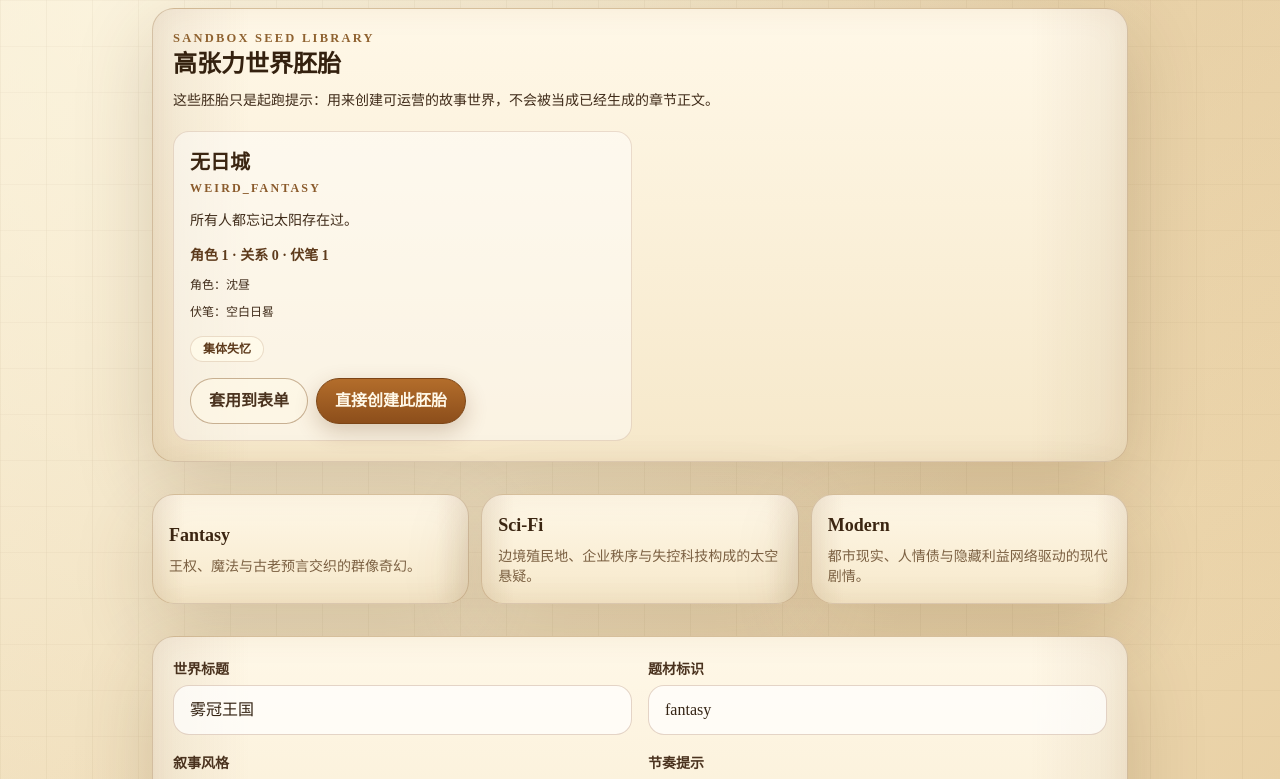
WorldPage world creation › creates a high-tension embryo without treating seed hook as generated chapter content
(page scrolled)
Expected: the text "所有人都忘记太阳存在过。" is shown, [190,213,358,228]
Step 1. Click the button "直接创建此胚胎" → (391, 401), box [316,378,466,424]
(page scrolled)
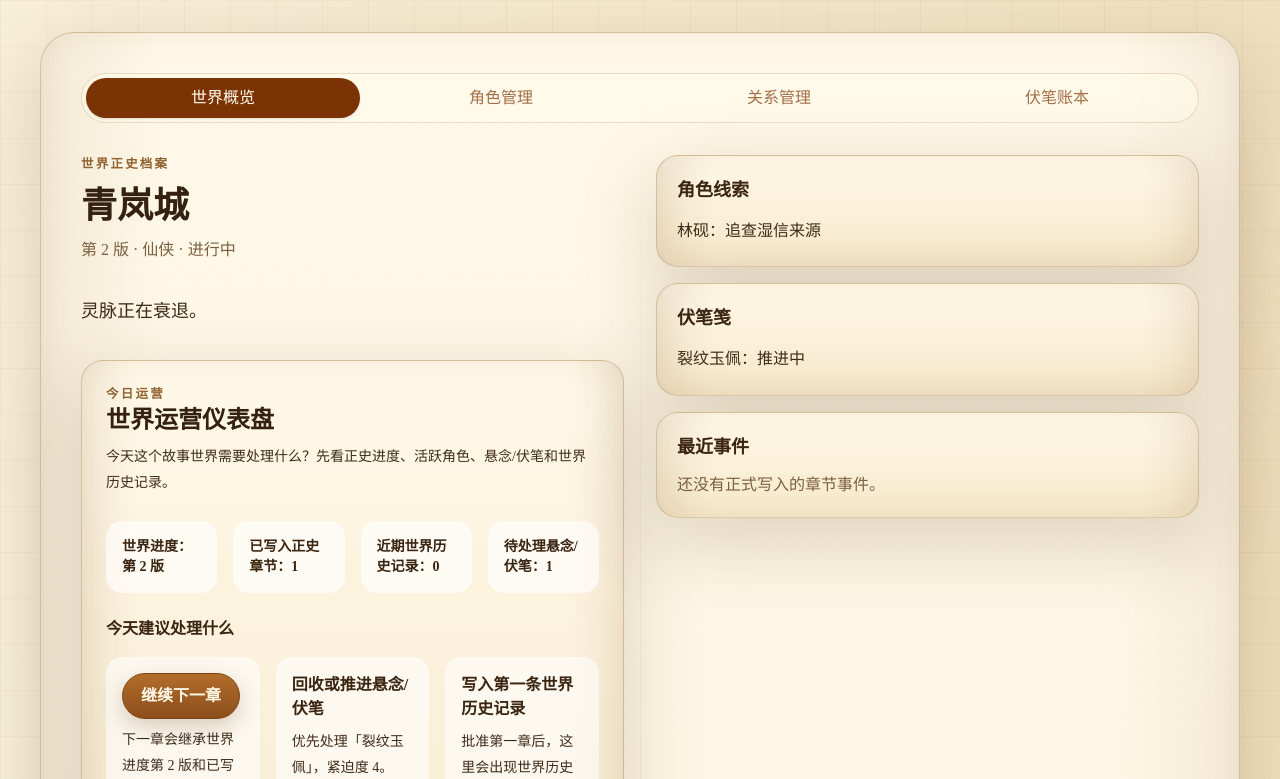
Expected: the heading "青岚城" is shown, [81,186,189,226]
